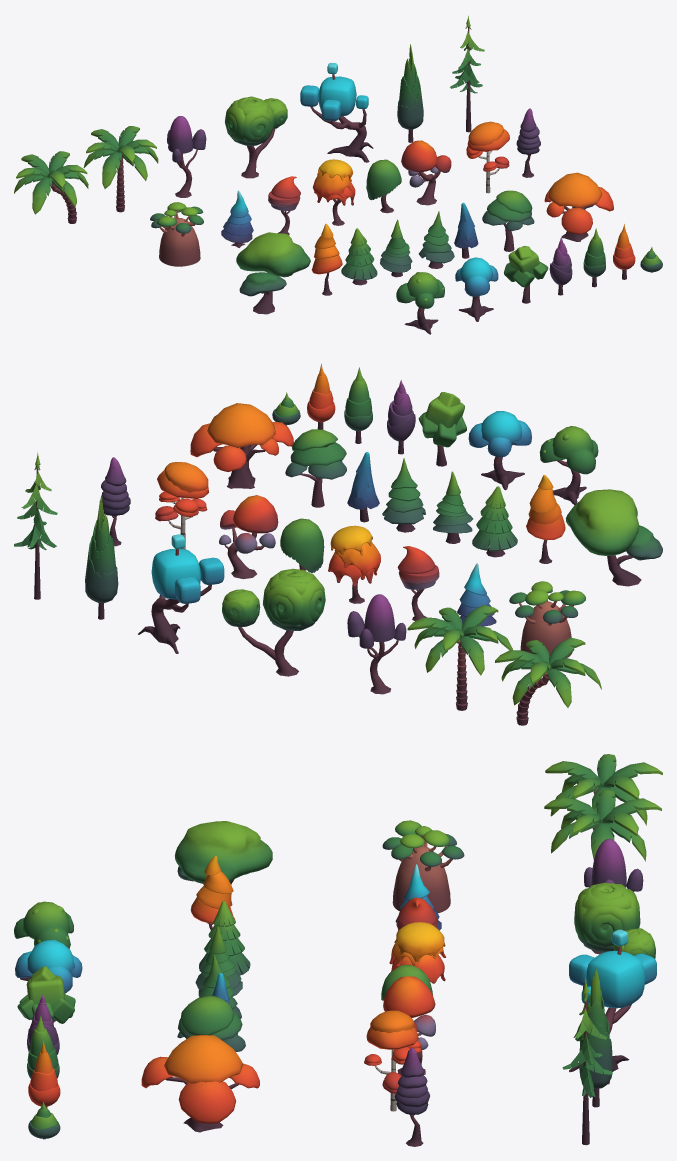
Rendered from trees.glb.
The picture shows the model from 3 angles, top to bottom: view 1: azimuth 30°, elevation 25°; view 2: azimuth 150°, elevation 25°; view 3: azimuth 270°, elevation 25°; orthographic projection. The views are drawn at different scales.
Parts seen in each view (by area): view 1: Tree.026, Tree.024, Tree.023, Tree.006, Tree.028, Tree.029, Tree.027, Tree.019, Tree.007, Tree.017, Tree.013, Tree.021 (+17 smaller); view 2: Tree.023, Tree.026, Tree.006, Tree.024, Tree.028, Tree.029, Tree.027, Tree.019, Tree.007, Tree.021, Tree.022, Tree.012 (+18 smaller); view 3: Tree.006, Tree.026, Tree.024, Tree.023, Tree.027, Tree.028, Tree.029, Tree.021, Tree.017, Tree.007, Tree.019, Tree.025 (+17 smaller).
Part boxes in pixels (left/top/right/bottom): Tree.026: left=236, top=232, right=310, bottom=314; Tree.024: left=300, top=62, right=373, bottom=162; Tree.023: left=225, top=96, right=287, bottom=178; Tree.006: left=544, top=172, right=613, bottom=241; Tree.028: left=83, top=126, right=158, bottom=212; Tree.029: left=14, top=151, right=88, bottom=223; Tree.027: left=150, top=202, right=203, bottom=266; Tree.019: left=401, top=140, right=451, bottom=205; Tree.007: left=482, top=190, right=534, bottom=251; Tree.017: left=312, top=159, right=355, bottom=225; Tree.013: left=396, top=272, right=444, bottom=334; Tree.021: left=466, top=121, right=509, bottom=193; Tree.023: left=222, top=568, right=325, bottom=676; Tree.026: left=565, top=489, right=662, bottom=586; Tree.006: left=190, top=403, right=293, bottom=488; Tree.024: left=138, top=534, right=224, bottom=653; Tree.028: left=407, top=605, right=512, bottom=710; Tree.029: left=495, top=637, right=601, bottom=725; Tree.027: left=509, top=581, right=585, bottom=658; Tree.019: left=219, top=495, right=278, bottom=579; Tree.007: left=285, top=429, right=346, bottom=507; Tree.021: left=155, top=462, right=208, bottom=549; Tree.022: left=347, top=594, right=406, bottom=694; Tree.012: left=468, top=411, right=531, bottom=490; Tree.006: left=141, top=1035, right=259, bottom=1132; Tree.026: left=175, top=821, right=272, bottom=884; Tree.024: left=569, top=929, right=656, bottom=1084; Tree.023: left=574, top=882, right=655, bottom=958; Tree.027: left=382, top=820, right=464, bottom=913; Tree.028: left=544, top=790, right=661, bottom=861; Tree.029: left=545, top=754, right=662, bottom=825; Tree.021: left=364, top=1010, right=421, bottom=1111; Tree.017: left=389, top=922, right=445, bottom=983; Tree.007: left=177, top=996, right=245, bottom=1051; Tree.019: left=383, top=976, right=435, bottom=1075; Tree.025: left=562, top=977, right=612, bottom=1145.
Size of the model in its own units: 4670 by 1157 by 4016.
1 material, 1 textured.
